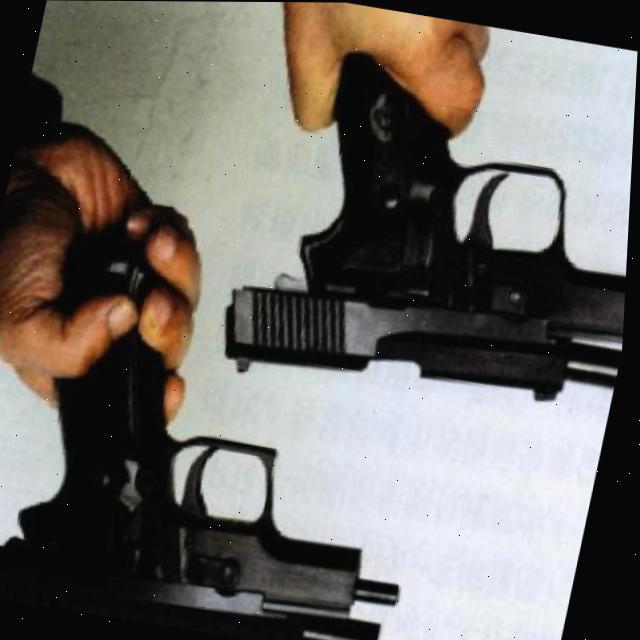gun: (0, 220, 467, 640), (214, 28, 638, 434)
